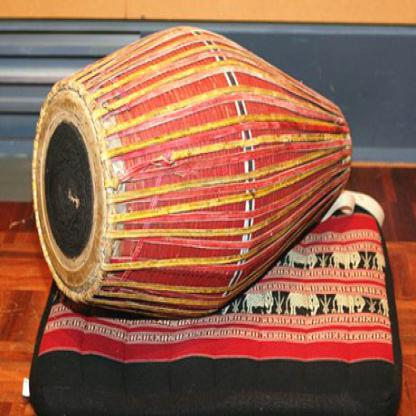Mridangam: (24, 15, 392, 330)
